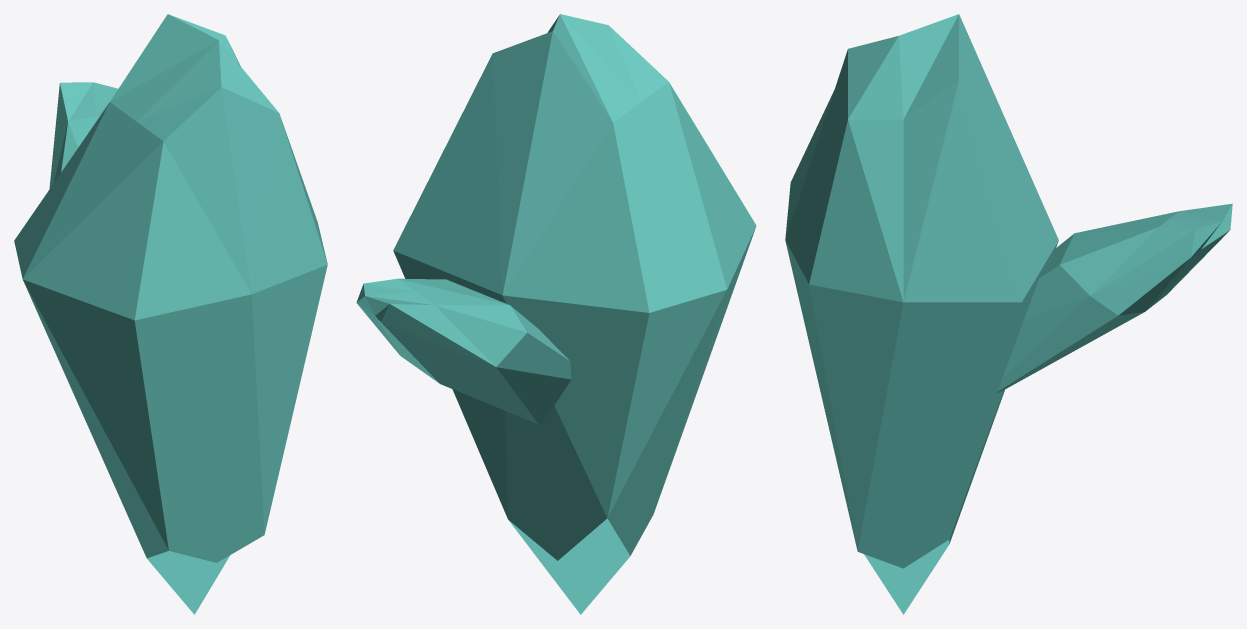
Rendered from ice crystal.fbx.
The picture shows the model from 3 angles, left to right: view 1: azimuth 30°, elevation 25°; view 2: azimuth 150°, elevation 25°; view 3: azimuth 270°, elevation 25°; orthographic projection. The views are drawn at different scales.
Parts seen in each view (by area): view 1: ice_crystal; view 2: ice_crystal; view 3: ice_crystal.
Part boxes in pixels (<box>): ice_crystal: <box>14,14,327,614</box>; ice_crystal: <box>356,14,756,614</box>; ice_crystal: <box>785,14,1232,614</box>.
Bounding box in the file's own units: 0.1621 × 0.3221 × 0.2173.
